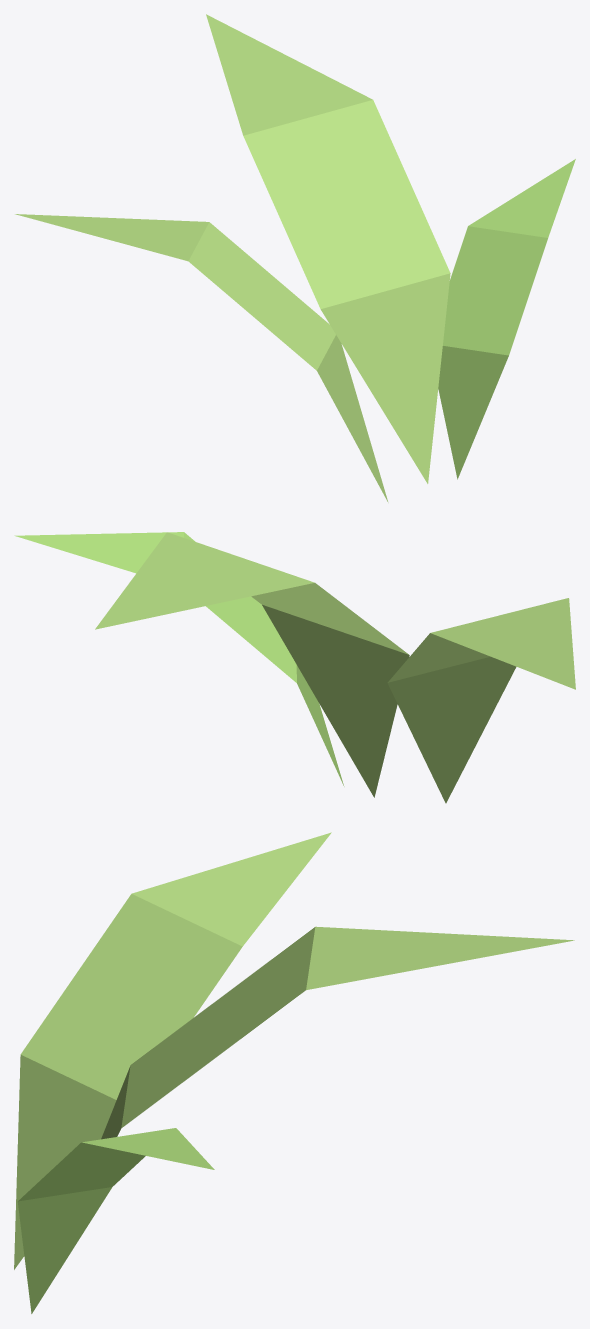
File: Plant_b_OneS_03.fbx
3 renders of one model, top to bottom at view 1: azimuth 30°, elevation 25°; view 2: azimuth 150°, elevation 25°; view 3: azimuth 270°, elevation 25°, orthographic. The views are drawn at different scales.
Visible parts, largest first — view 1: Plant_b_OneS_03; view 2: Plant_b_OneS_03; view 3: Plant_b_OneS_03.
Part boxes in pixels (box(x1,y1,x2,y2)): Plant_b_OneS_03: box(15, 14, 575, 502); Plant_b_OneS_03: box(14, 532, 575, 803); Plant_b_OneS_03: box(14, 832, 574, 1313).
Size of the model in its own units: 0.5675 by 0.3212 by 0.453.
